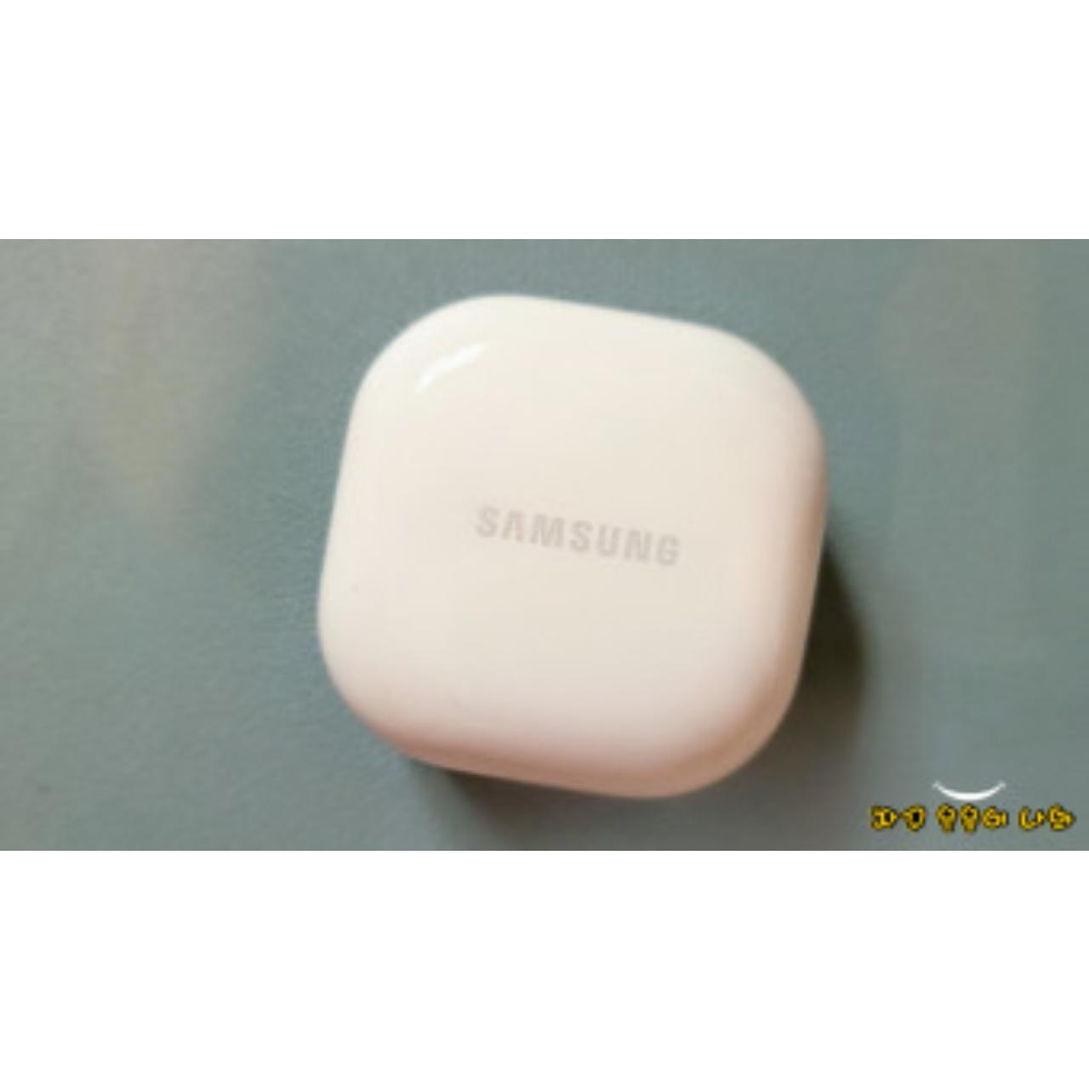Buds: (313, 285, 834, 821)
